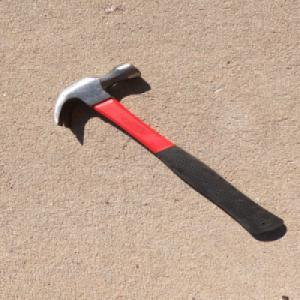Hammer: (52, 60, 287, 236)
